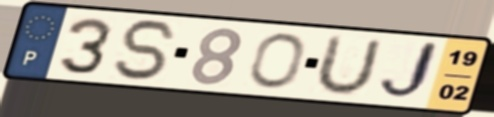3: (57, 15, 115, 76)
8: (190, 25, 246, 87)
J: (375, 39, 444, 104)
O: (246, 31, 308, 92)
S: (112, 17, 182, 83)
U: (309, 32, 386, 98)
